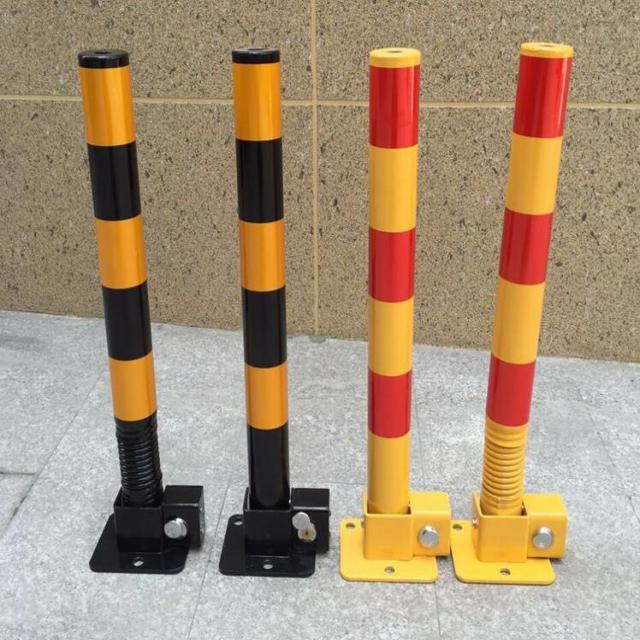warning_column: (477, 42, 574, 514), (76, 47, 170, 501), (229, 43, 291, 504), (364, 44, 422, 512)
